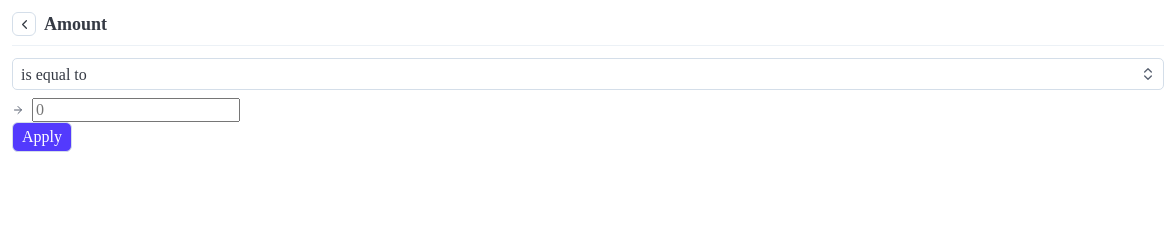
Test: FilterEditor › shows an error for an inverted range and clears it on input
Select "is between" in the dropdown named "Number filter select" at coordinates (588, 74), box 12,58 -> 1164,90
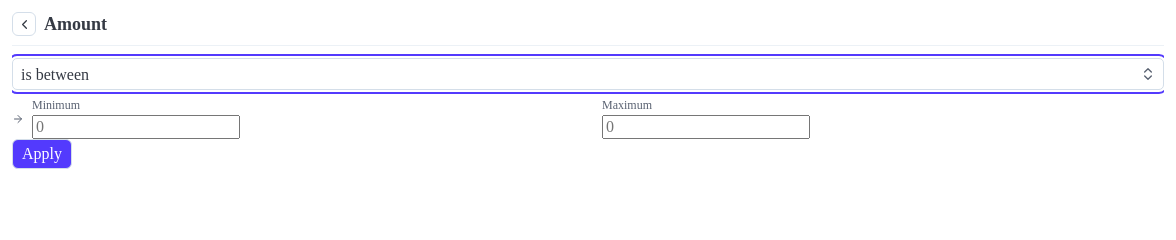
Type "10" into the number field labelled "Minimum" at coordinates (136, 127), box 32,115 -> 240,139
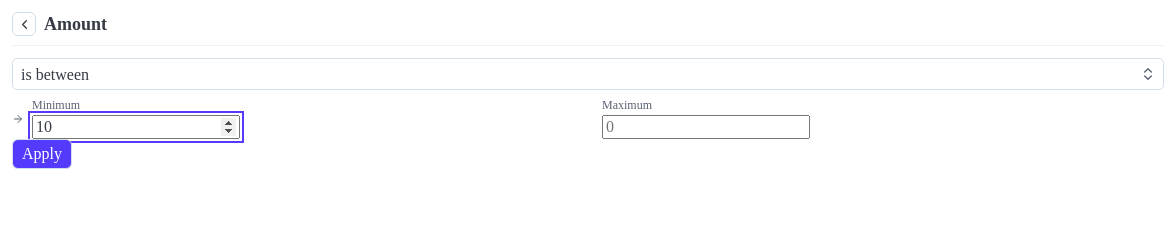
Type "5" into the number field labelled "Maximum" at coordinates (706, 127), box 602,115 -> 810,139
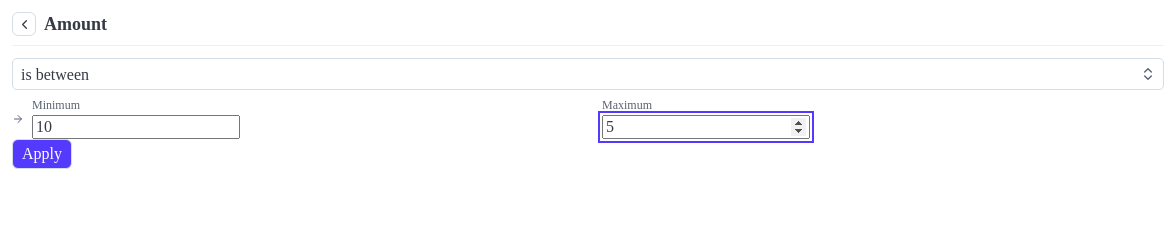
Click the button "Apply" at coordinates (42, 154), box 12,139 -> 72,169
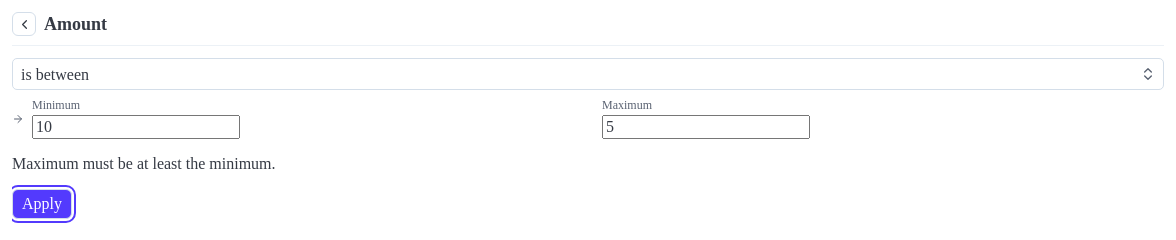
Expected: the message reads "Maximum must be at least the minimum.", 12,155 -> 276,172
Type "0" into the number field labelled "Maximum" at coordinates (706, 127), box 602,115 -> 810,139
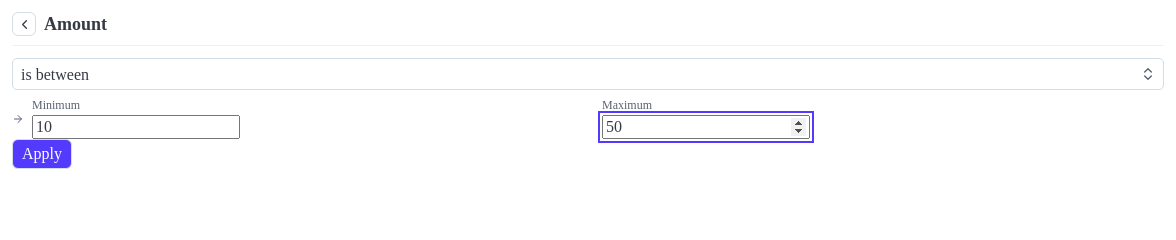
Expected: the message "Maximum must be at least the minimum." is gone
